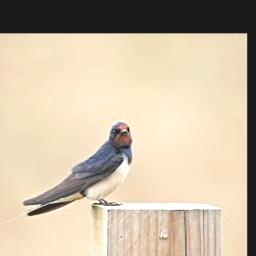Swallow: (0, 118, 135, 230)
